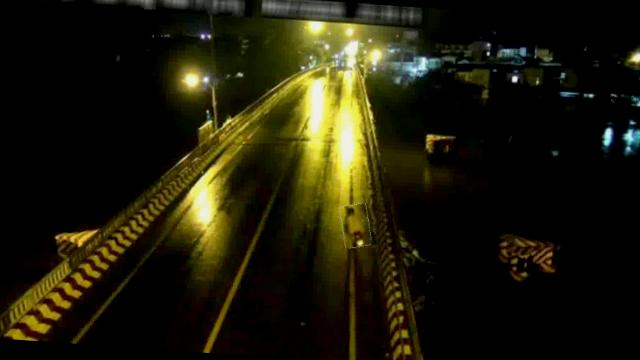Bike: (338, 202, 372, 248)
